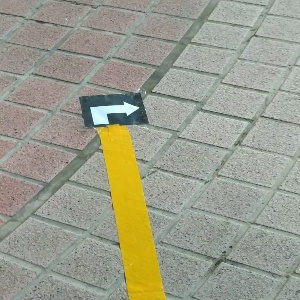right: (78, 92, 149, 128)
